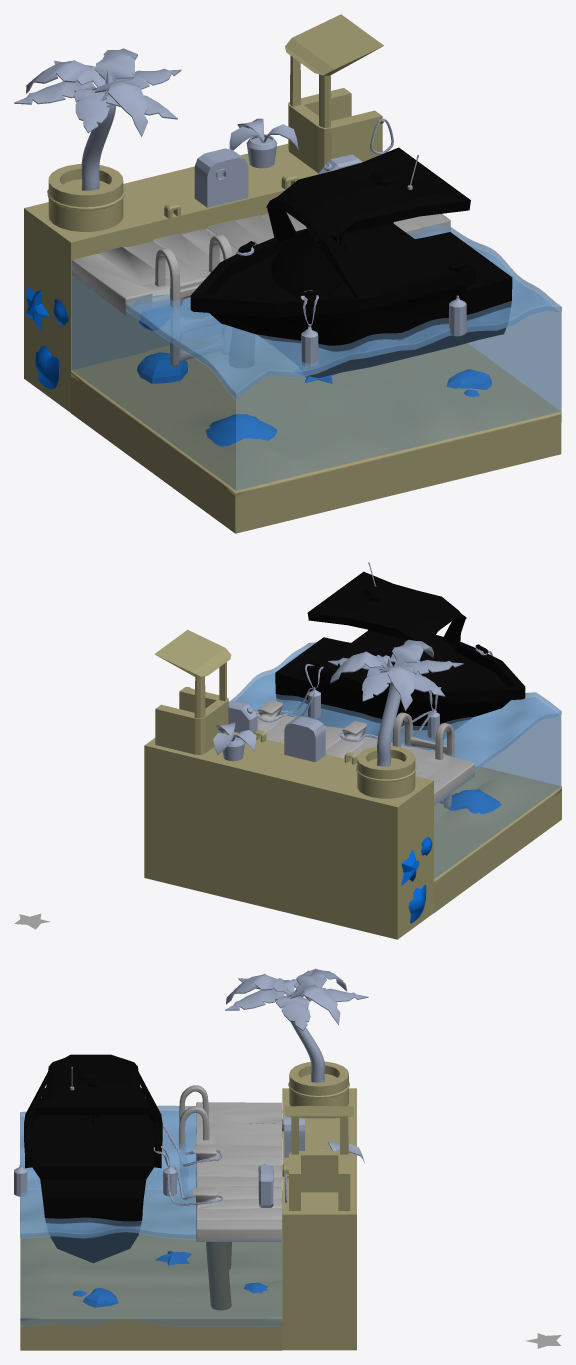
Rendered from frThisShitFinnaWork1.fbx.
3 renders of one model, top to bottom at view 1: azimuth 30°, elevation 25°; view 2: azimuth 150°, elevation 25°; view 3: azimuth 270°, elevation 25°, orthographic. The views are drawn at different scales.
Parts seen in each view (by area): view 1: pPlane17, boat_Obj:pPlane3, polySurface2, PierBlock, polySurface1, pPlane16, WoodPlanks, PierBooth, TreePlanter, GlassPane, Charger, pDisc4 (+13 smaller); view 2: PierBlock, boat_Obj:pPlane3, pPlane17, pPlane16, PierBooth, polySurface2, WoodPlanks, polySurface1, TreePlanter, Charger, GlassPane, extrudedSurface1 (+7 smaller); view 3: pPlane17, boat_Obj:pPlane3, polySurface2, PierBlock, WoodPlanks, polySurface1, pPlane16, PierBooth, TreePlanter, Pier3, extrudedSurface1, pPlane4 (+8 smaller).
Part boxes in pixels (bbox=[...]): pPlane17: bbox=[71, 232, 561, 490]; boat_Obj:pPlane3: bbox=[190, 147, 512, 377]; polySurface2: bbox=[71, 334, 557, 490]; PierBlock: bbox=[24, 143, 318, 412]; polySurface1: bbox=[71, 371, 561, 533]; pPlane16: bbox=[125, 224, 561, 399]; WoodPlanks: bbox=[71, 212, 450, 367]; PierBooth: bbox=[285, 14, 384, 173]; TreePlanter: bbox=[47, 164, 124, 231]; GlassPane: bbox=[271, 229, 358, 297]; Charger: bbox=[194, 148, 248, 207]; pDisc4: bbox=[206, 414, 277, 446]; PierBlock: bbox=[144, 730, 433, 939]; boat_Obj:pPlane3: bbox=[275, 571, 525, 749]; pPlane17: bbox=[237, 652, 561, 878]; pPlane16: bbox=[231, 642, 561, 771]; PierBooth: bbox=[154, 629, 231, 754]; polySurface2: bbox=[434, 766, 561, 879]; WoodPlanks: bbox=[253, 700, 474, 808]; polySurface1: bbox=[434, 787, 561, 912]; TreePlanter: bbox=[356, 746, 416, 798]; Charger: bbox=[284, 716, 325, 762]; GlassPane: bbox=[420, 635, 462, 687]; extrudedSurface1: bbox=[377, 682, 400, 766]; pPlane17: bbox=[20, 1111, 281, 1326]; boat_Obj:pPlane3: bbox=[24, 1054, 162, 1262]; polySurface2: bbox=[20, 1190, 282, 1316]; PierBlock: bbox=[282, 1088, 356, 1350]; WoodPlanks: bbox=[179, 1085, 282, 1241]; polySurface1: bbox=[20, 1312, 282, 1350]; pPlane16: bbox=[20, 1105, 196, 1238]; PierBooth: bbox=[283, 1106, 353, 1210]; TreePlanter: bbox=[288, 1061, 349, 1106]; Pier3: bbox=[206, 1242, 231, 1310]; extrudedSurface1: bbox=[290, 993, 325, 1082]; pPlane4: bbox=[275, 995, 310, 1030].
Size of the model in its own units: 10.04 by 7.75 by 14.64.
